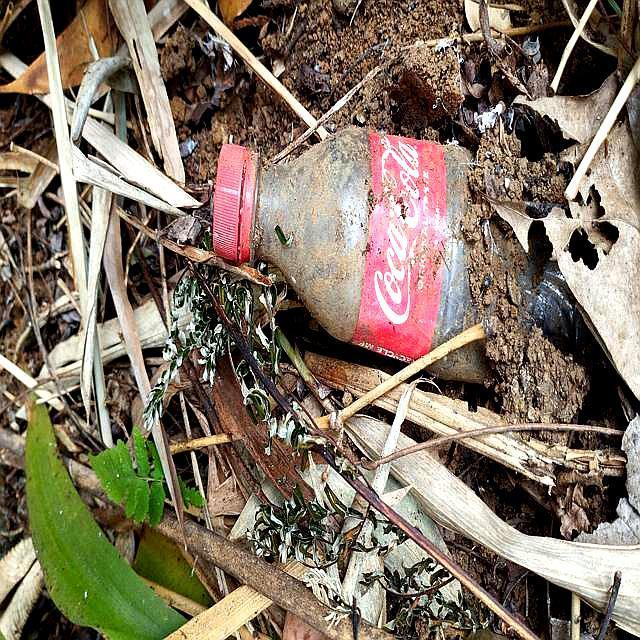Non-biodegradable: (210, 125, 470, 367)
